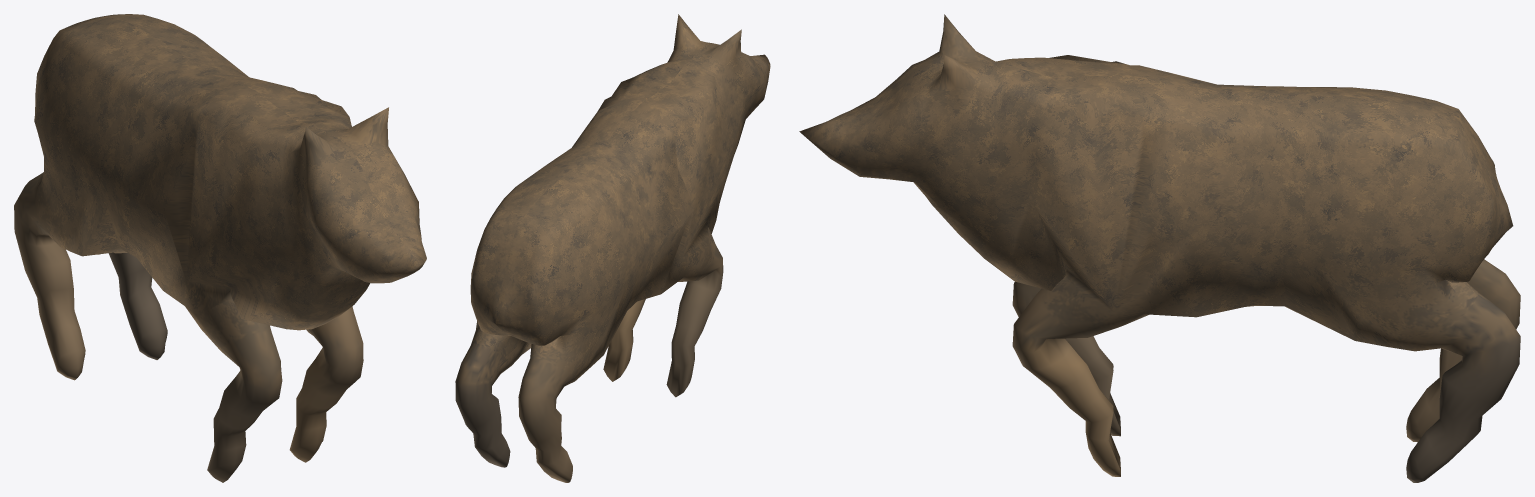
The model's file is piesblend_000027.obj.
The picture shows the model from 3 angles, left to right: view 1: azimuth 30°, elevation 25°; view 2: azimuth 150°, elevation 25°; view 3: azimuth 270°, elevation 25°; orthographic projection. The views are drawn at different scales.
Visible parts, largest first — view 1: Cube; view 2: Cube; view 3: Cube.
Part boxes in pixels (left/top/right/bottom): Cube: left=14, top=14, right=426, bottom=482; Cube: left=455, top=14, right=770, bottom=482; Cube: left=799, top=14, right=1520, bottom=482.
Size of the model in its own units: 2.55 by 6.13 by 9.36.
1 material, 1 textured.
